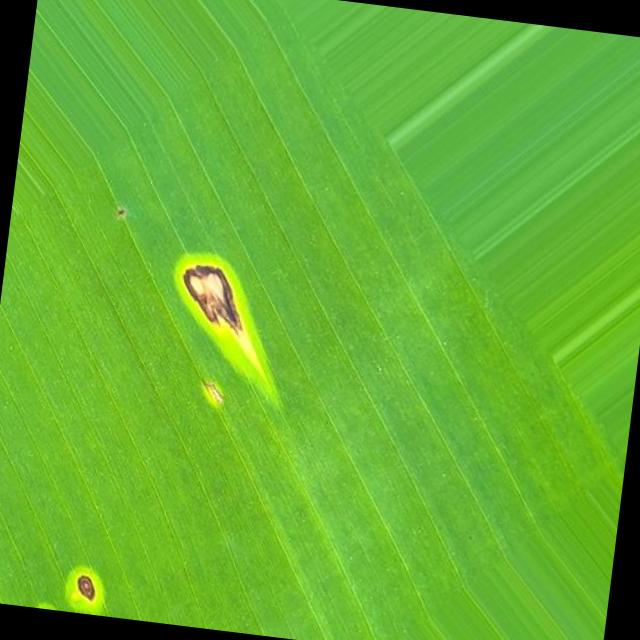Banana_Black_Sigatoka: (146, 235, 324, 444), (44, 506, 180, 624)
